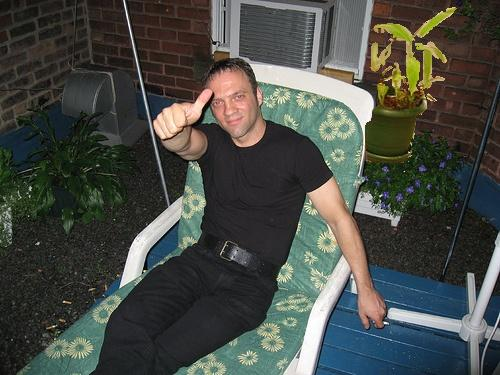tampered: (167, 8, 457, 163)
